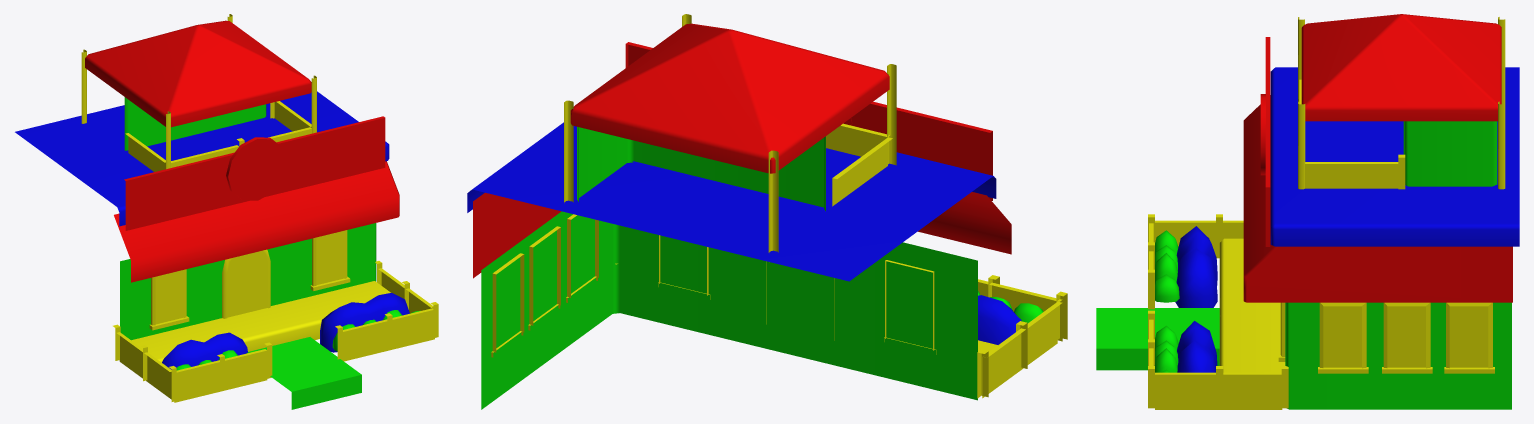
The model's file is Ital_Sicilian_SM.fbx.
The picture shows the model from 3 angles, left to right: view 1: azimuth 30°, elevation 25°; view 2: azimuth 150°, elevation 25°; view 3: azimuth 270°, elevation 25°; orthographic projection. The views are drawn at different scales.
Visible parts, largest first — view 1: Ital_Sicilian_SM; view 2: Ital_Sicilian_SM; view 3: Ital_Sicilian_SM.
Part boxes in pixels (x1=…): Ital_Sicilian_SM: x1=15, y1=14, x2=438, y2=409; Ital_Sicilian_SM: x1=467, y1=14, x2=1067, y2=409; Ital_Sicilian_SM: x1=1096, y1=14, x2=1519, y2=409.
Bounding box in the file's own units: 78.82 × 77.87 × 89.27.
